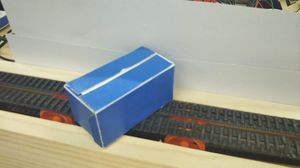box3: (63, 45, 174, 149)
